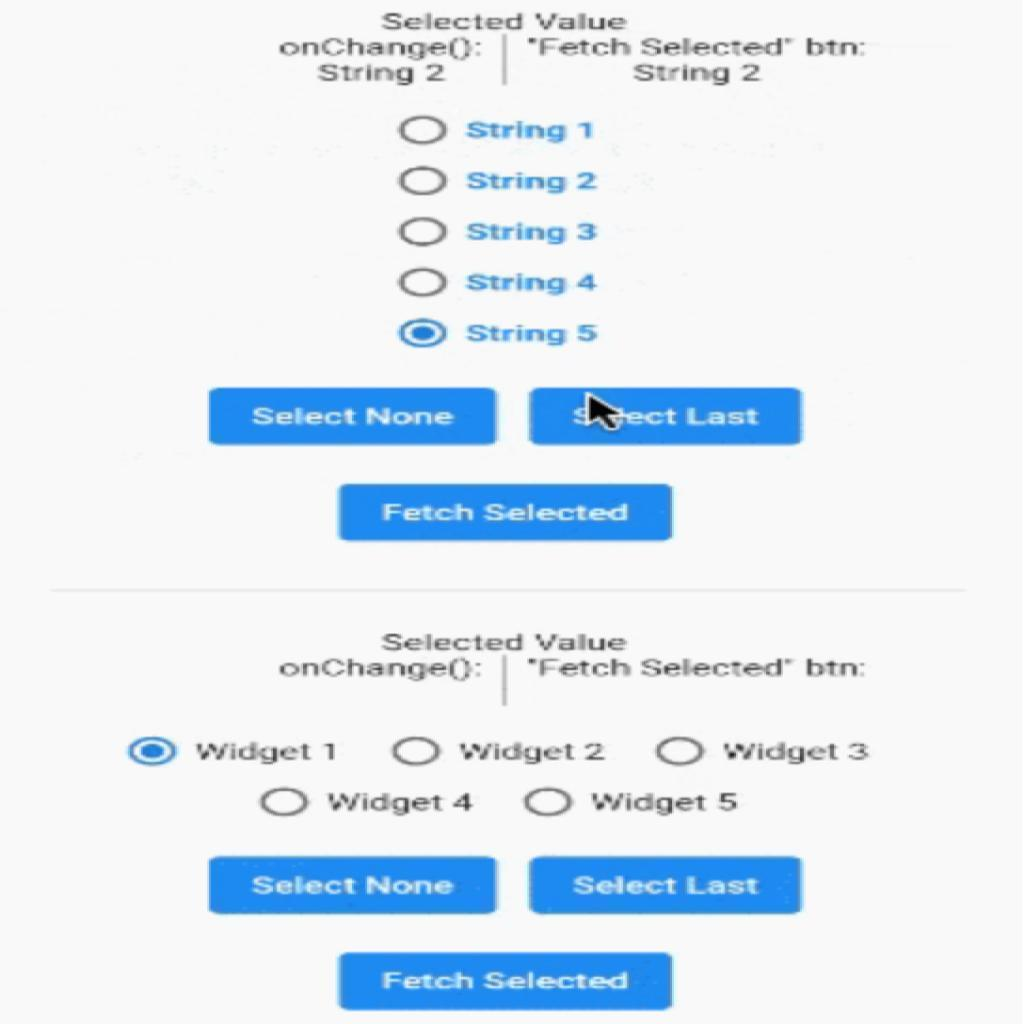button: (336, 482, 671, 542), (339, 954, 673, 1010), (530, 384, 802, 448), (208, 386, 497, 444), (210, 856, 497, 914), (531, 855, 804, 914)
label: (458, 738, 605, 766), (723, 739, 873, 766), (326, 789, 472, 815), (192, 737, 336, 763), (590, 791, 741, 815)
radio: (520, 784, 576, 818), (257, 783, 311, 818), (396, 316, 451, 350), (394, 113, 450, 145), (389, 734, 441, 768), (397, 214, 449, 248), (395, 266, 448, 299), (656, 732, 707, 765), (124, 736, 182, 765), (394, 165, 448, 196)
